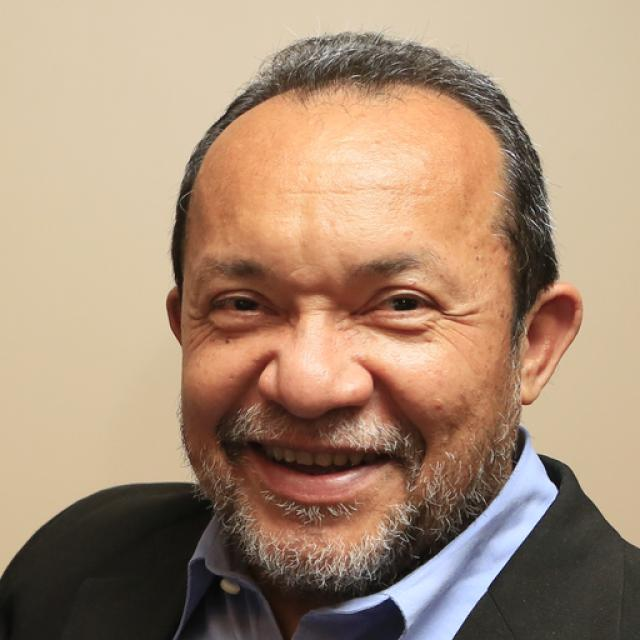Acne: (430, 392, 446, 413)
Wrinkle: (424, 323, 467, 352)
